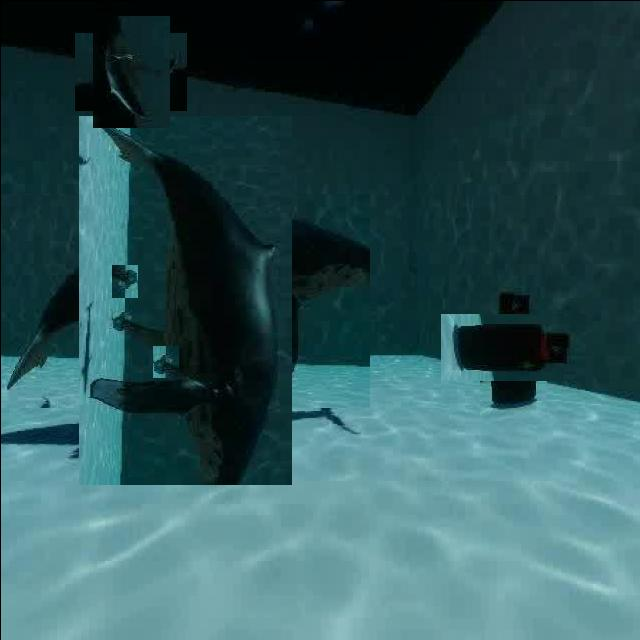Cylinder: (460, 294, 566, 400)
Shell: (150, 346, 180, 376)
Whale: (38, 154, 330, 446), (82, 23, 178, 118)
